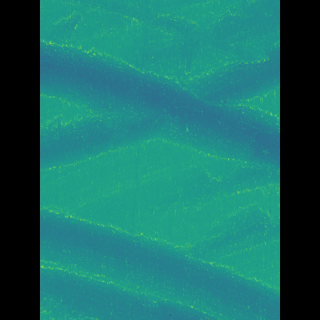Loch: (69, 36, 249, 185), (69, 206, 250, 320)
